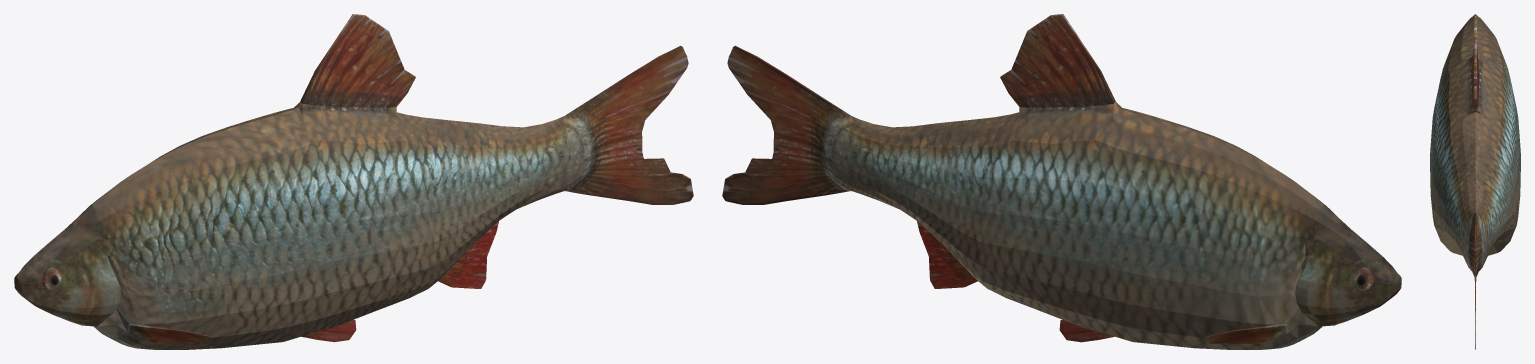
Rendered from Rudd Fish.obj.
3 views of the same model, side by side, from view 1: azimuth 30°, elevation 25°; view 2: azimuth 150°, elevation 25°; view 3: azimuth 270°, elevation 25° (orthographic). The views are drawn at different scales.
Visible parts, largest first — view 1: Rudd-Fish_Cube.001; view 2: Rudd-Fish_Cube.001; view 3: Rudd-Fish_Cube.001.
Part boxes in pixels (x1,y1,x2,y2): Rudd-Fish_Cube.001: (14, 14, 693, 349); Rudd-Fish_Cube.001: (722, 14, 1401, 349); Rudd-Fish_Cube.001: (1430, 14, 1520, 349).
Size of the model in its own units: 96.24 by 44.12 by 14.52.
Materials: 1 (1 with a texture image).
